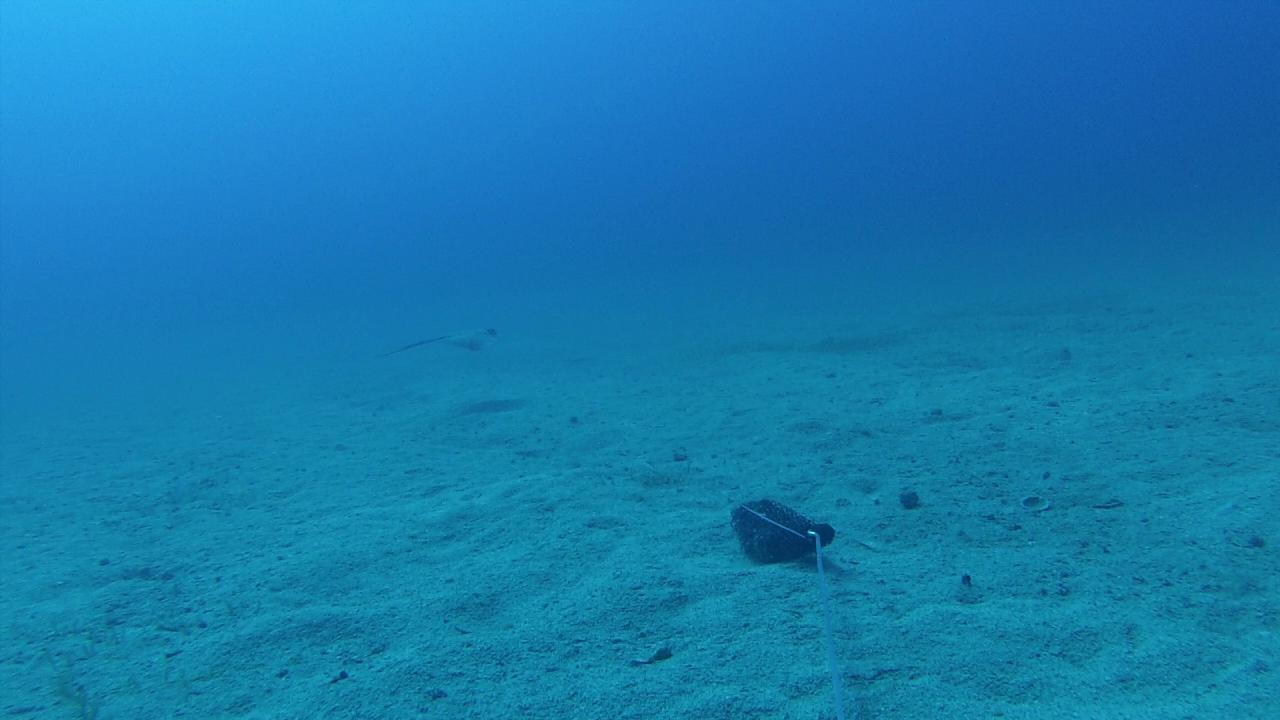dasyatis: (368, 323, 500, 362)
